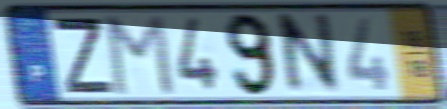4: (175, 14, 222, 96), (343, 15, 392, 93)
9: (222, 11, 282, 99)
M: (104, 12, 177, 98)
N: (279, 10, 342, 99)
Z: (47, 14, 117, 96)
